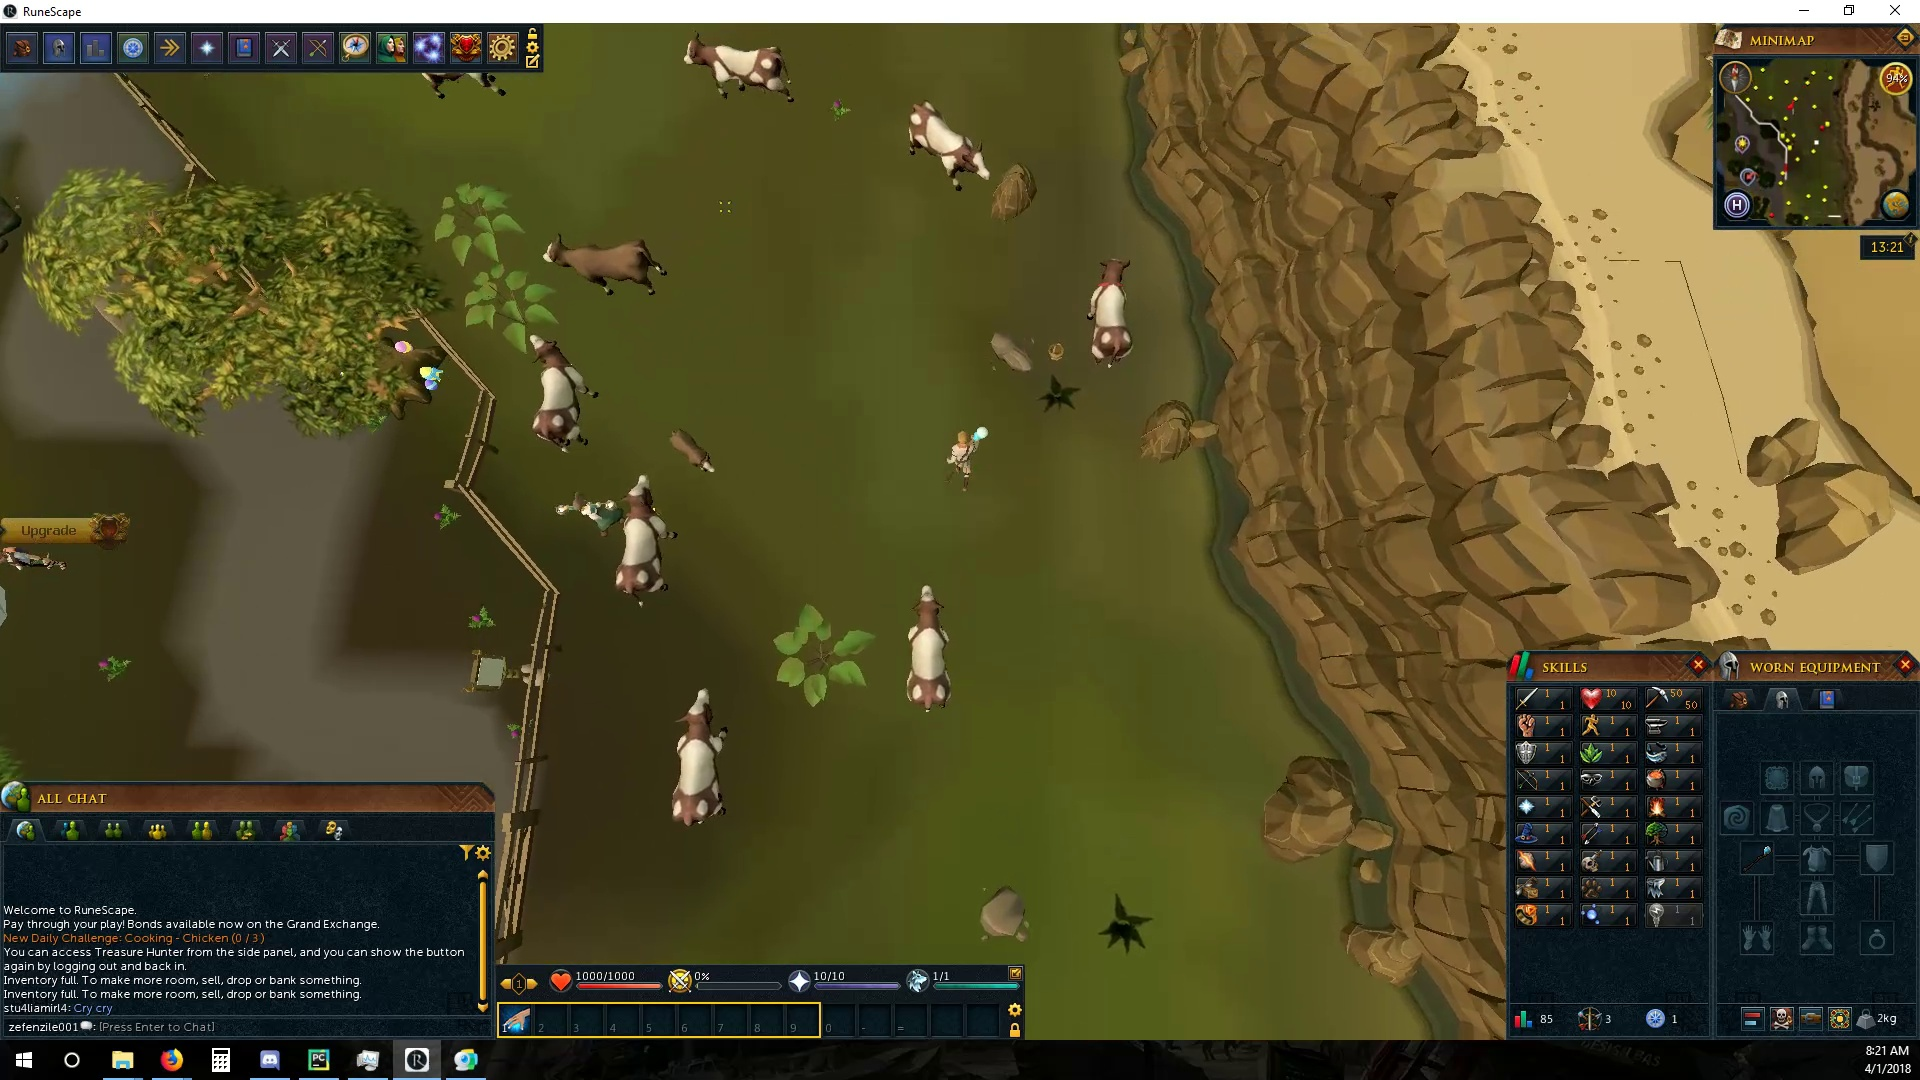calf: (665, 425, 717, 476)
cow: (520, 331, 601, 455), (666, 686, 733, 828), (613, 469, 680, 611), (676, 32, 796, 107), (901, 96, 994, 191), (538, 232, 669, 298), (1080, 255, 1135, 375), (903, 585, 955, 713)
